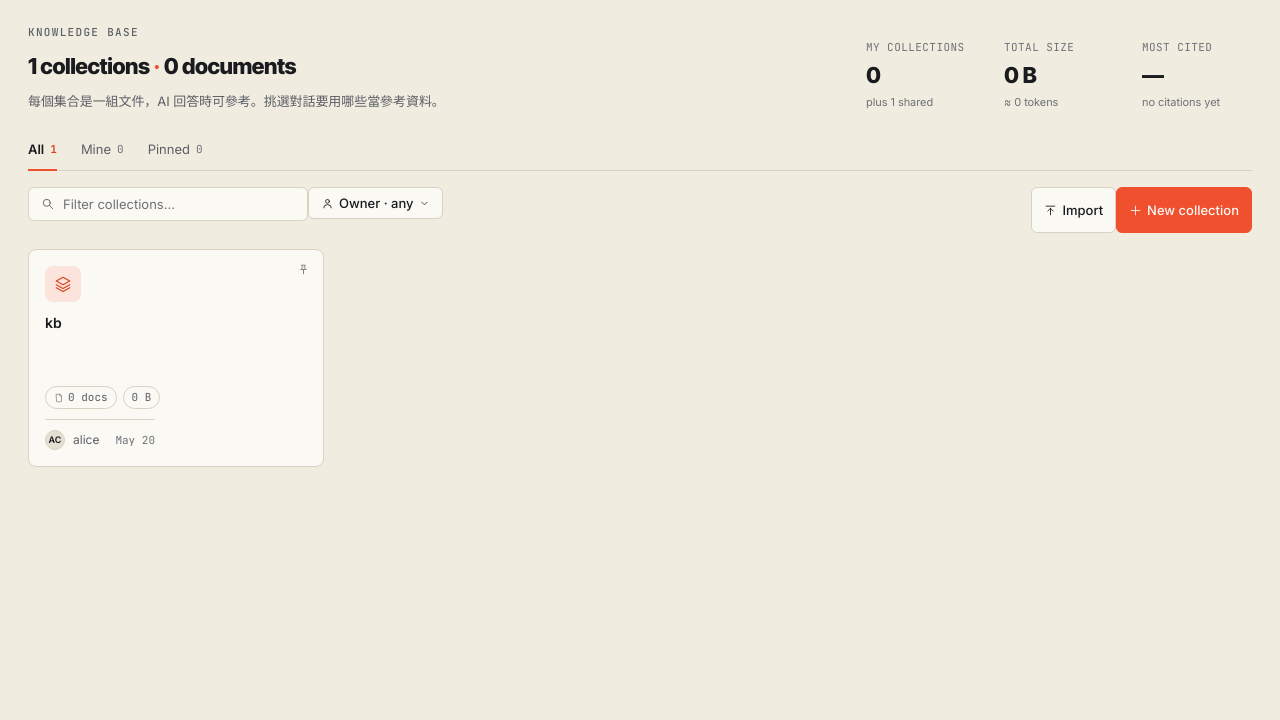
Test: KbCollectionsPage › disables the Documents-tab Re-index action when the collection has no docs (#172)
Click the button with aria-label "Open kb" at {"x": 63, "y": 284}, box [28, 249, 324, 467]
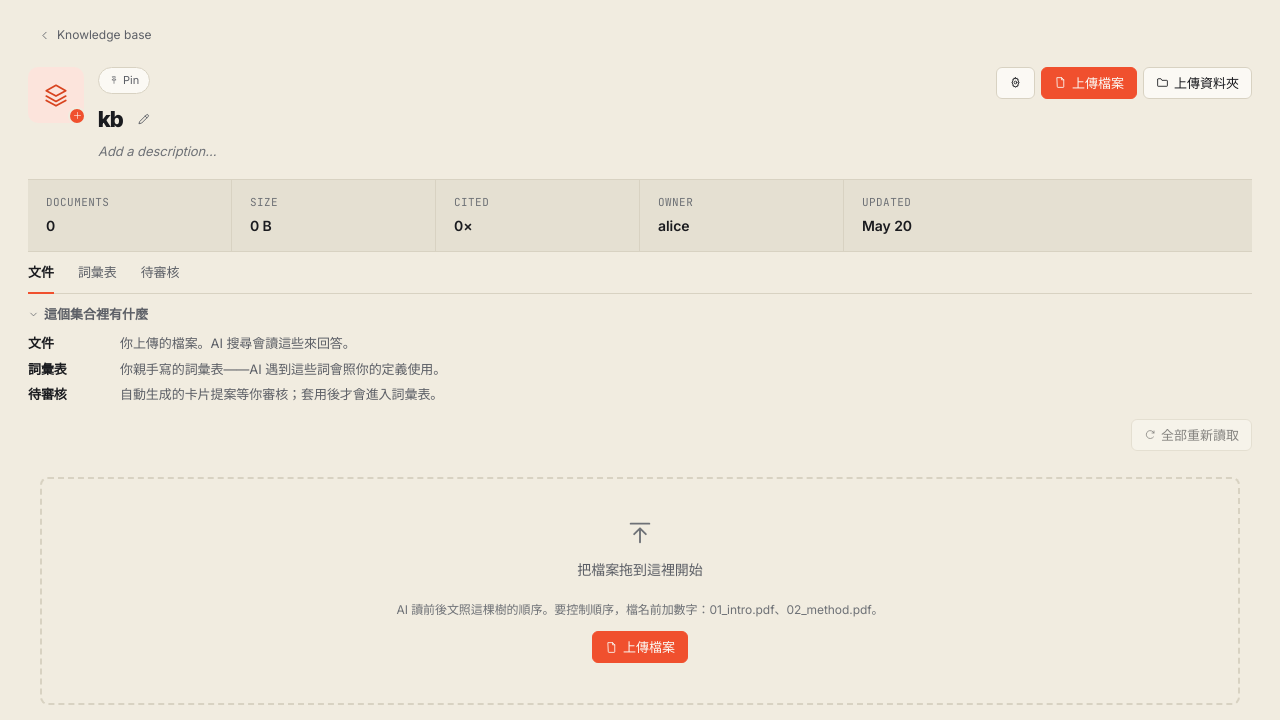
Now the button with test id "kb-reindex-all" is disabled, box [1131, 419, 1252, 451]
